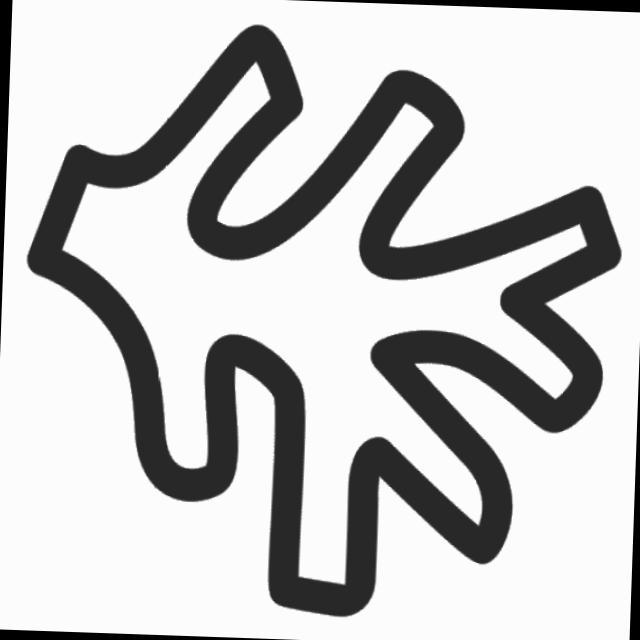coral: (1, 1, 640, 635)
